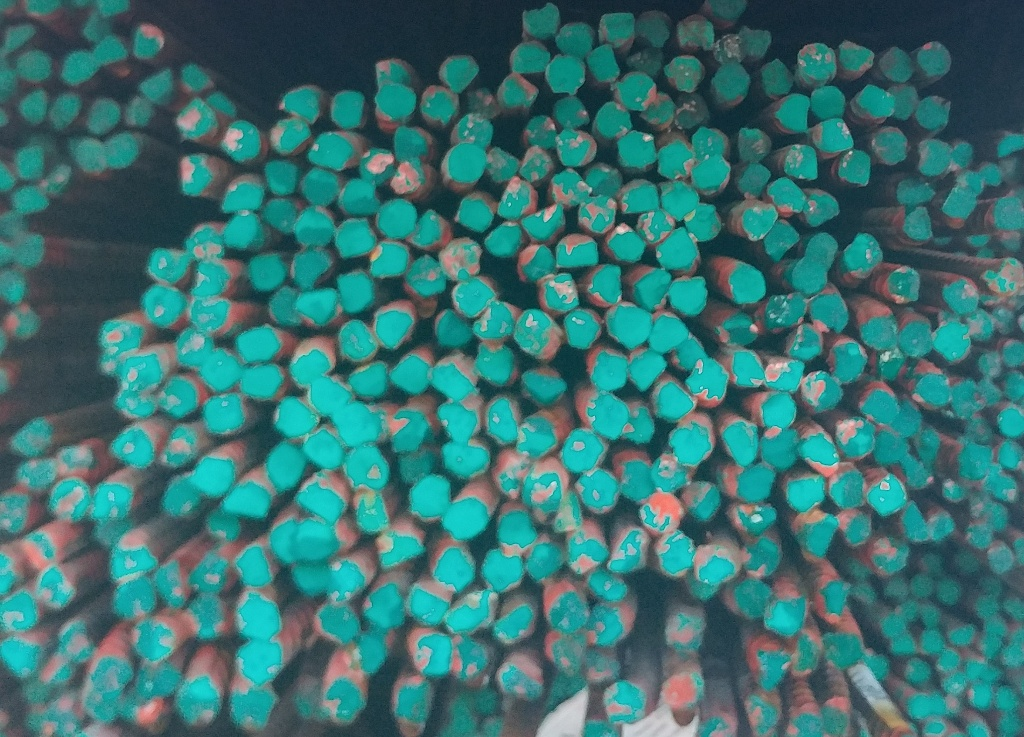dipstick: (388, 676, 439, 736), (442, 586, 500, 636), (720, 459, 781, 504), (512, 307, 561, 363), (430, 544, 483, 595), (229, 680, 280, 733), (135, 279, 188, 329), (262, 436, 308, 493), (664, 421, 718, 469), (362, 580, 410, 634), (293, 476, 350, 521), (329, 403, 390, 445), (822, 334, 870, 387), (517, 362, 571, 409), (450, 633, 495, 689), (543, 157, 594, 206), (197, 346, 249, 394), (587, 603, 640, 650), (190, 453, 243, 500), (578, 390, 628, 439), (343, 442, 392, 492), (574, 468, 625, 516), (608, 525, 655, 577), (839, 229, 886, 280), (404, 577, 451, 628), (177, 672, 223, 724), (158, 472, 210, 518), (274, 81, 327, 126), (198, 392, 250, 437), (156, 375, 210, 418), (443, 139, 491, 187), (798, 179, 846, 227), (321, 673, 369, 721), (558, 427, 607, 474), (478, 544, 528, 590), (519, 465, 563, 517), (306, 375, 358, 419), (237, 642, 289, 686), (441, 497, 494, 540), (406, 627, 453, 675), (792, 37, 837, 87), (306, 128, 356, 173), (370, 193, 420, 238), (777, 132, 822, 182), (606, 301, 650, 352), (386, 122, 438, 165), (272, 392, 326, 433), (792, 510, 839, 557), (880, 260, 928, 306), (863, 470, 911, 516), (407, 475, 453, 523), (349, 140, 398, 185), (491, 444, 531, 499), (375, 528, 430, 568), (431, 358, 481, 402), (438, 237, 489, 280), (231, 319, 282, 362), (115, 354, 167, 396), (295, 161, 341, 208), (637, 86, 684, 132), (864, 119, 911, 165), (613, 122, 658, 170), (389, 406, 434, 454), (221, 480, 272, 522), (171, 97, 222, 139), (106, 428, 158, 469), (681, 477, 727, 523), (834, 416, 879, 463), (543, 588, 588, 635), (491, 604, 538, 649), (188, 549, 233, 596), (218, 116, 263, 163), (436, 45, 480, 93), (192, 260, 240, 304), (810, 575, 853, 624), (654, 530, 697, 579), (515, 409, 558, 458), (496, 505, 539, 554), (914, 32, 953, 86), (938, 172, 977, 226), (655, 130, 697, 180), (836, 31, 877, 82), (287, 559, 338, 600), (303, 517, 354, 558), (437, 440, 493, 477), (550, 122, 596, 167), (722, 258, 768, 303), (654, 225, 699, 271), (238, 595, 284, 640), (327, 86, 371, 133), (755, 216, 802, 260), (315, 601, 362, 645), (403, 252, 450, 296), (602, 680, 650, 723), (46, 478, 94, 521), (914, 130, 955, 180), (300, 430, 350, 471), (481, 394, 521, 445), (655, 176, 700, 221), (801, 368, 846, 413), (159, 425, 204, 470), (851, 77, 895, 123), (833, 144, 879, 188), (736, 195, 780, 241), (681, 200, 727, 244), (604, 220, 650, 264), (373, 303, 417, 349), (773, 88, 816, 135), (691, 545, 739, 587), (616, 455, 658, 503), (350, 487, 392, 535), (750, 387, 799, 428), (551, 19, 602, 58), (569, 526, 608, 577), (123, 694, 174, 733), (418, 82, 463, 126), (536, 271, 581, 315), (338, 317, 382, 362), (186, 595, 230, 640), (594, 95, 637, 141), (473, 339, 515, 386), (435, 399, 482, 441), (176, 152, 223, 194), (521, 202, 569, 243), (173, 327, 221, 368), (91, 480, 139, 521), (8, 415, 57, 455), (93, 313, 143, 352), (889, 167, 940, 205), (294, 288, 345, 326), (217, 212, 268, 250), (614, 69, 658, 113), (658, 668, 702, 712), (480, 216, 523, 261), (339, 171, 381, 217), (452, 112, 500, 152), (687, 356, 726, 405), (450, 279, 499, 318), (883, 72, 921, 122), (593, 5, 636, 49), (762, 595, 806, 638), (665, 613, 709, 656), (111, 575, 155, 618), (1, 590, 45, 633), (373, 82, 418, 124), (541, 630, 587, 671), (107, 388, 164, 421), (403, 207, 455, 243), (239, 363, 289, 400), (108, 541, 158, 578), (758, 428, 801, 471), (661, 52, 705, 94), (708, 59, 752, 101), (673, 13, 717, 55), (617, 172, 661, 214), (669, 275, 713, 317), (497, 658, 539, 702), (625, 347, 667, 391), (262, 194, 304, 238), (938, 272, 979, 317), (859, 382, 900, 427), (640, 492, 685, 533), (494, 70, 540, 110), (688, 123, 735, 162), (781, 471, 828, 510), (183, 222, 231, 260), (674, 89, 716, 132), (631, 269, 673, 312), (744, 533, 786, 576), (388, 352, 430, 395), (63, 133, 106, 175), (524, 538, 565, 582), (290, 247, 334, 288), (878, 38, 914, 88), (367, 241, 413, 280), (586, 565, 633, 603), (760, 290, 808, 327), (650, 315, 698, 352), (266, 116, 314, 153), (652, 451, 694, 493), (335, 269, 377, 311), (823, 630, 867, 670), (731, 577, 775, 617), (235, 546, 275, 590), (801, 424, 840, 469), (723, 420, 762, 465), (294, 206, 339, 245), (140, 246, 190, 281), (897, 201, 935, 247), (349, 362, 396, 399), (452, 190, 493, 232), (808, 79, 849, 121), (807, 292, 849, 333), (829, 467, 869, 510), (290, 343, 330, 386), (756, 57, 795, 101), (980, 256, 1024, 295), (935, 320, 974, 364), (56, 619, 95, 663), (917, 88, 952, 137), (57, 48, 106, 83), (38, 568, 76, 613), (12, 47, 57, 85), (734, 501, 781, 537), (136, 660, 183, 696), (733, 122, 774, 163), (473, 300, 514, 341), (433, 307, 474, 348), (585, 265, 625, 307), (563, 307, 603, 349), (801, 226, 840, 269), (130, 615, 173, 654), (545, 52, 589, 90), (389, 160, 433, 198), (652, 381, 696, 419), (516, 245, 560, 283), (217, 177, 266, 211), (329, 558, 365, 604), (636, 7, 677, 47), (496, 177, 537, 217), (350, 634, 390, 675), (483, 141, 522, 183), (636, 208, 678, 247), (755, 648, 794, 690), (130, 20, 172, 59), (4, 305, 47, 343), (505, 39, 549, 76), (583, 157, 627, 194), (263, 156, 307, 193), (188, 298, 237, 331), (89, 654, 135, 689), (549, 87, 589, 127), (762, 352, 802, 392), (246, 252, 286, 292), (951, 437, 990, 478), (85, 97, 124, 138), (871, 536, 913, 574), (521, 1, 564, 38), (685, 155, 728, 192), (592, 350, 631, 390), (3, 637, 43, 676), (397, 448, 438, 486), (154, 560, 185, 610), (711, 30, 755, 65), (915, 367, 950, 411), (520, 138, 554, 183), (58, 442, 104, 475), (787, 259, 828, 296), (857, 313, 899, 349), (892, 397, 927, 440), (873, 425, 912, 463), (335, 221, 375, 258), (272, 523, 309, 563), (739, 21, 775, 62), (739, 158, 775, 199), (904, 452, 939, 494), (371, 57, 418, 88), (767, 176, 805, 214), (870, 347, 908, 385), (580, 192, 617, 231), (929, 502, 961, 547), (791, 632, 821, 680), (268, 283, 300, 328), (717, 312, 759, 346), (13, 458, 60, 488), (742, 694, 779, 732), (119, 92, 156, 130), (897, 314, 932, 354), (13, 140, 48, 180), (838, 510, 875, 547), (946, 378, 981, 417), (462, 85, 502, 119), (136, 69, 177, 102), (809, 116, 855, 145), (729, 350, 765, 387), (82, 684, 119, 720), (35, 164, 74, 198), (556, 234, 596, 267), (2, 491, 35, 531), (821, 696, 856, 733), (991, 192, 1024, 231), (200, 87, 241, 118), (789, 324, 825, 359), (87, 351, 129, 381), (177, 56, 213, 91), (104, 131, 139, 167), (204, 508, 241, 542), (27, 532, 65, 565), (93, 518, 137, 546), (48, 90, 83, 125), (82, 10, 118, 44), (965, 411, 998, 448), (899, 503, 931, 541), (1, 268, 33, 306), (9, 185, 52, 213), (18, 87, 48, 126), (523, 110, 557, 144), (12, 235, 46, 269), (93, 36, 128, 69), (672, 335, 708, 367), (946, 135, 977, 170), (786, 708, 823, 737), (2, 20, 39, 48), (991, 125, 1024, 156), (861, 649, 892, 682), (974, 346, 1004, 380), (969, 488, 1000, 520), (987, 501, 1016, 535), (42, 652, 74, 682), (969, 308, 995, 344), (951, 547, 982, 577), (901, 655, 932, 685), (977, 373, 1004, 407), (916, 425, 942, 460), (987, 539, 1013, 574), (977, 159, 1007, 189), (580, 651, 610, 681), (940, 667, 971, 696), (994, 406, 1022, 438), (878, 609, 910, 637), (944, 477, 972, 508), (997, 438, 1024, 470), (999, 335, 1023, 370), (969, 681, 996, 712), (995, 681, 1021, 713), (917, 628, 950, 653), (978, 632, 1006, 661), (992, 473, 1018, 504), (917, 549, 948, 575), (888, 635, 921, 659), (963, 520, 991, 548), (936, 576, 963, 605), (908, 692, 935, 721), (883, 573, 910, 601), (919, 600, 945, 629), (898, 597, 927, 623), (931, 647, 961, 672), (995, 710, 1022, 737), (981, 617, 1012, 640), (947, 621, 975, 646), (973, 594, 1001, 618), (978, 572, 1006, 595), (996, 305, 1017, 335), (912, 573, 935, 599), (965, 715, 991, 737), (855, 580, 876, 602)
